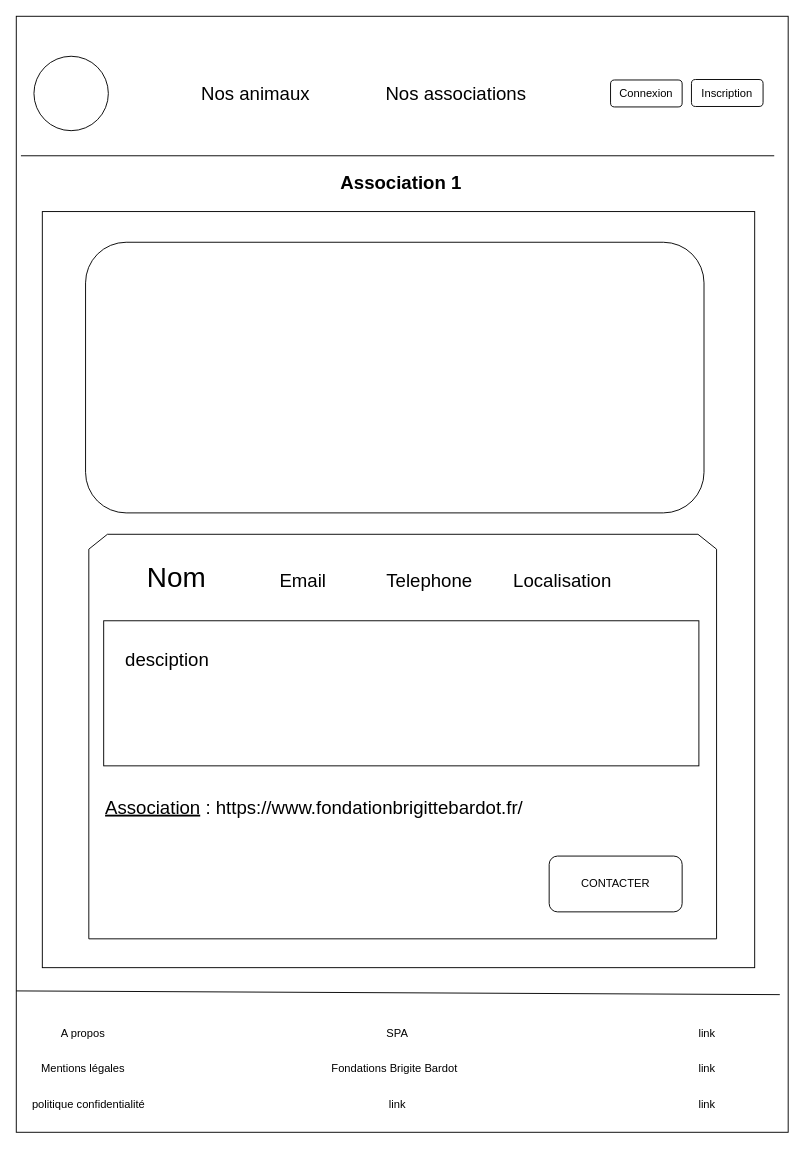
The diagram is 804 pixels wide and 1149 high, and some of its shapes have lost their labels. Here are the shapes that lost their labels. From the top down, the centre of each, then its label:
point 70,93: logo
point 394,377: img association 1
